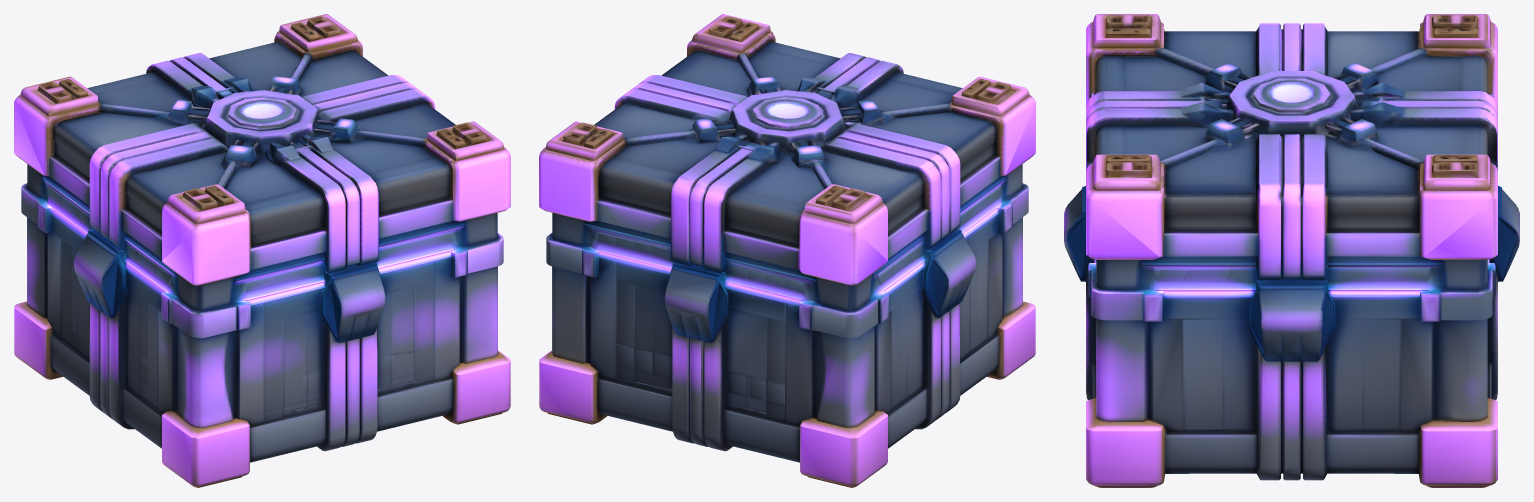
Rendered from Loot_Box_OS_MML_FINAL.glb.
The picture shows the model from 3 angles, left to right: view 1: azimuth 30°, elevation 25°; view 2: azimuth 150°, elevation 25°; view 3: azimuth 270°, elevation 25°; orthographic projection. The views are drawn at different scales.
Visible parts, largest first — view 1: material; view 2: material; view 3: material.
Part boxes in pixels (<box>): material: <box>14,14,510,487</box>; material: <box>539,14,1035,487</box>; material: <box>1064,14,1519,487</box>.
Size of the model in its own units: 1.33 by 1 by 1.33.
1 material, 1 textured.
